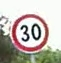limite 30: (10, 12, 49, 53)
